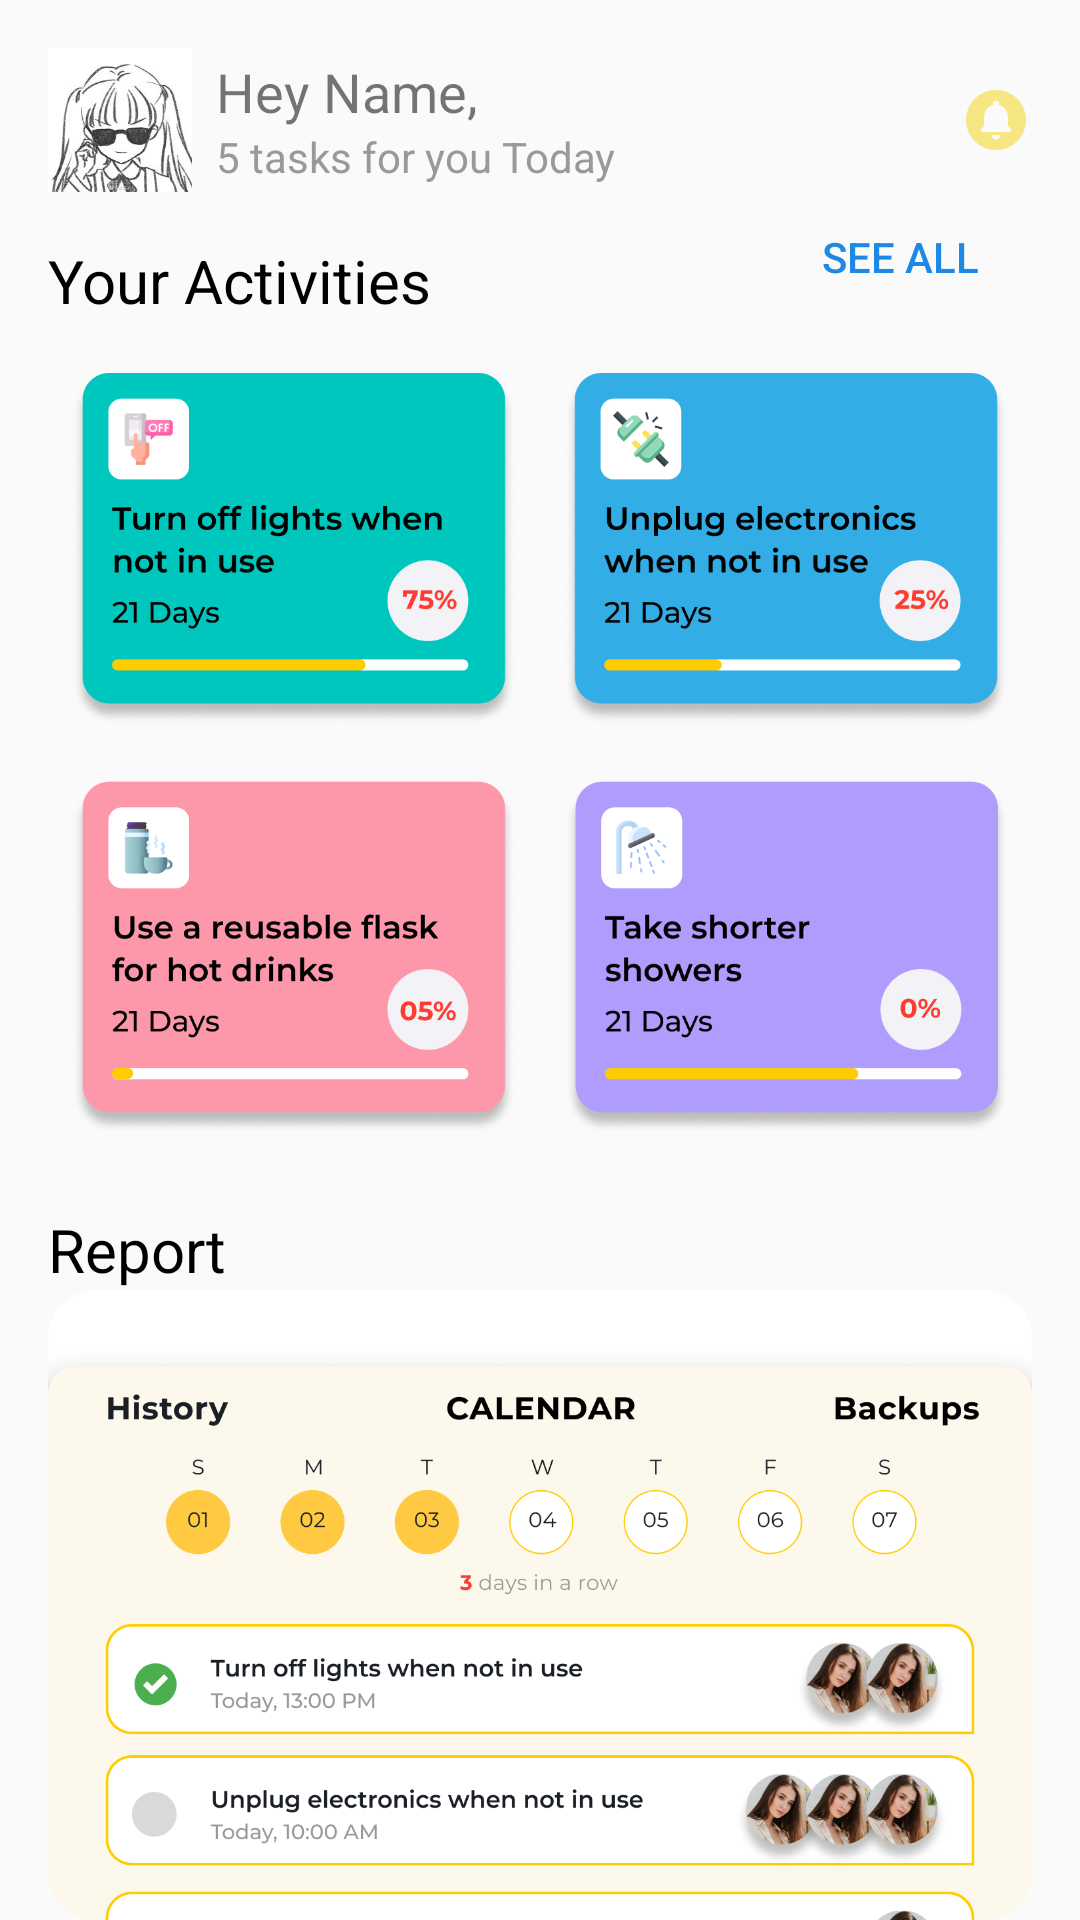

Named icons in this screenshot (1080px x 1920px) and their centers, (x=x, y=y):
notifications: (x=996, y=120)
